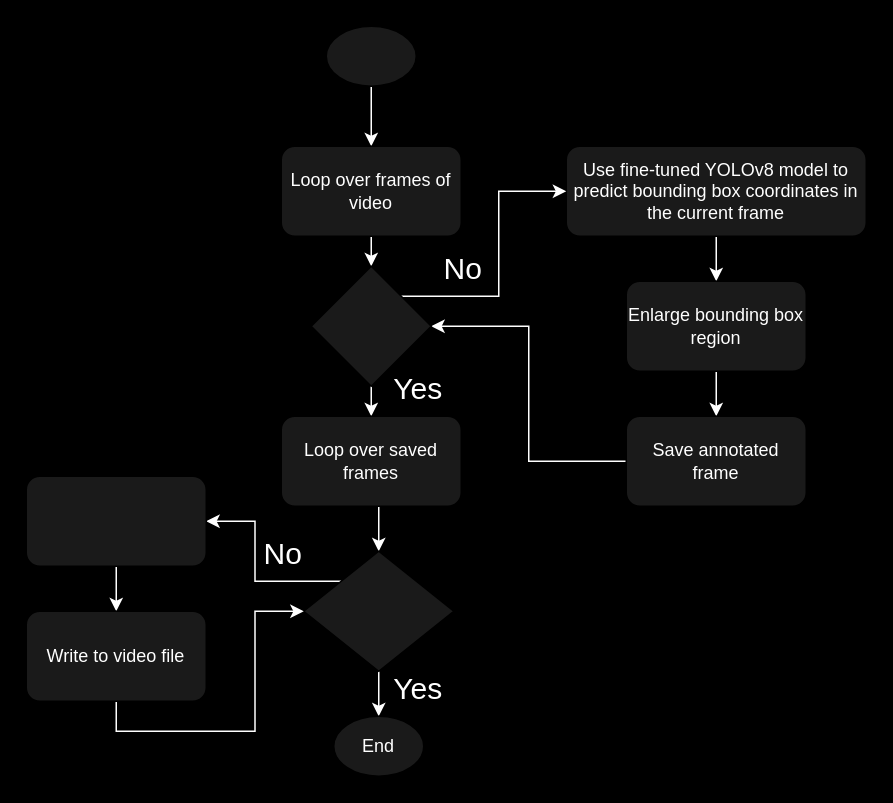
Some shapes in this 893 by 803 pixel diagram are drawn without their labels. The shapes that lost their labels are listed below. From the top down, each one's box as (x1, y1, x2, y2) in pixels, then its label:
(325, 25, 416, 86): Start
(310, 265, 431, 386): All frames done?
(25, 475, 206, 566): Resize Frame to 640x640
(302, 550, 454, 671): All annotated frames done?
